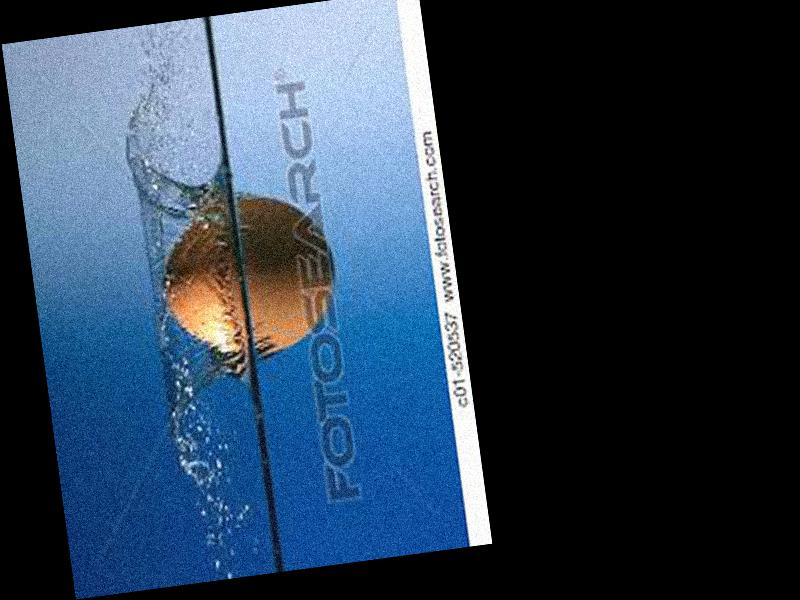Eggs: (152, 187, 341, 365)
